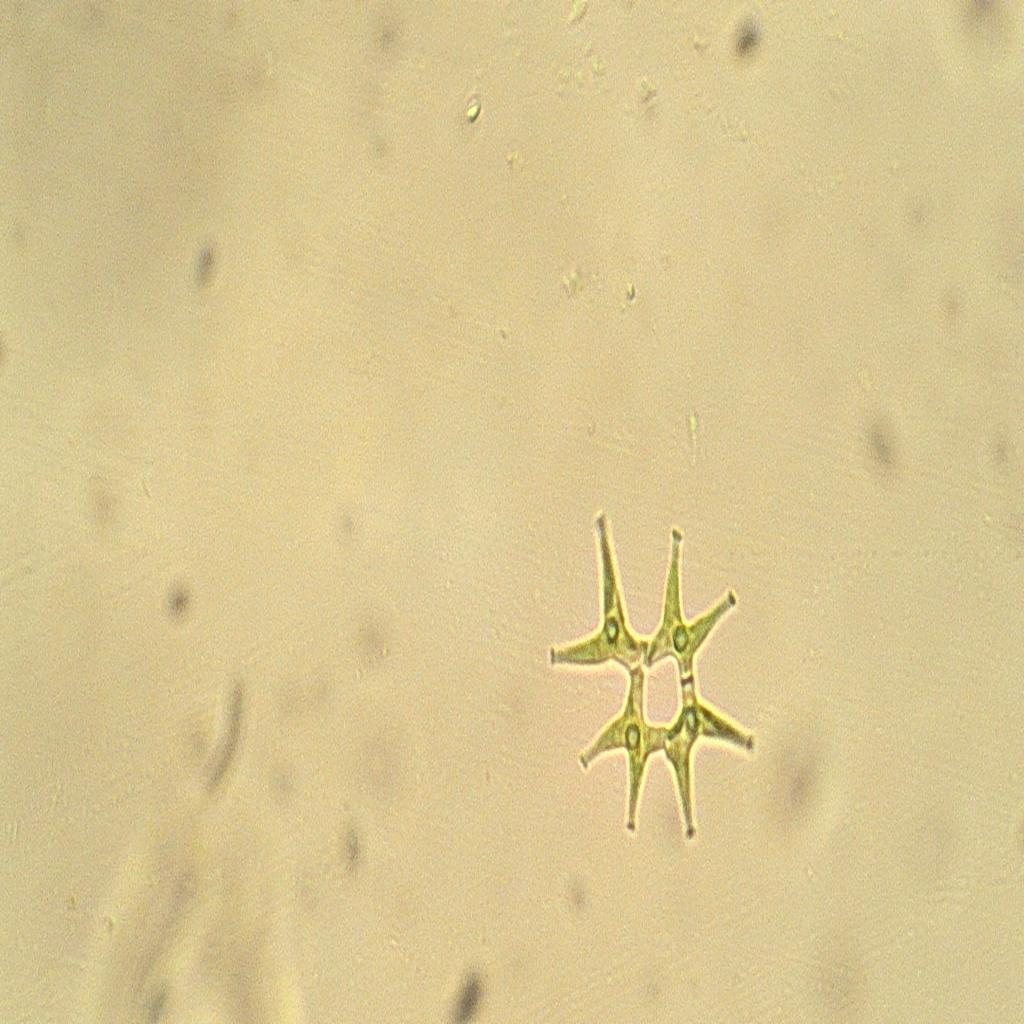Pediastrum_CT: (527, 494, 775, 876)
